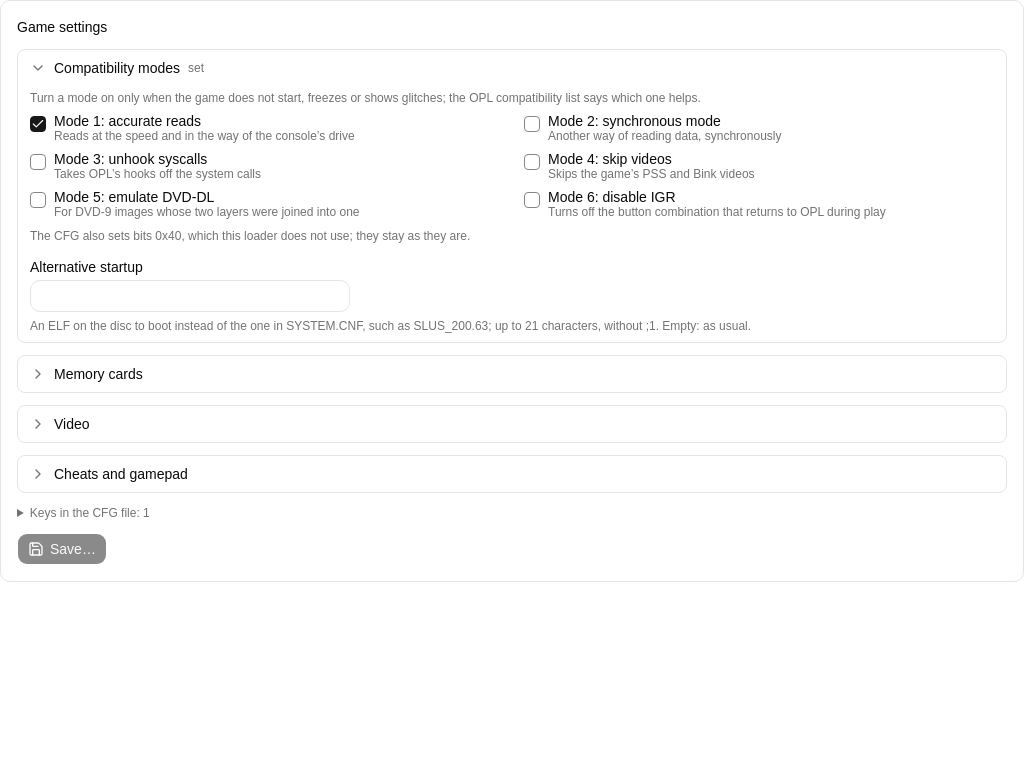
Test: game settings (CFG-2, VMC-1) › plans a mode change and keeps bits the loader does not show
This screenshot has width=1024, height=768.
Expected: the checkbox named "Mode 1" next to "Mode 1: accurate reads" is checked, [30, 116, 46, 132]
Expected: the text with test id "cfg-other-bits" shows "0x40", [30, 229, 470, 243]
Click the checkbox named "Mode 2" next to "Mode 2: synchronous mode".
click(532, 124)  # box [524, 116, 540, 132]
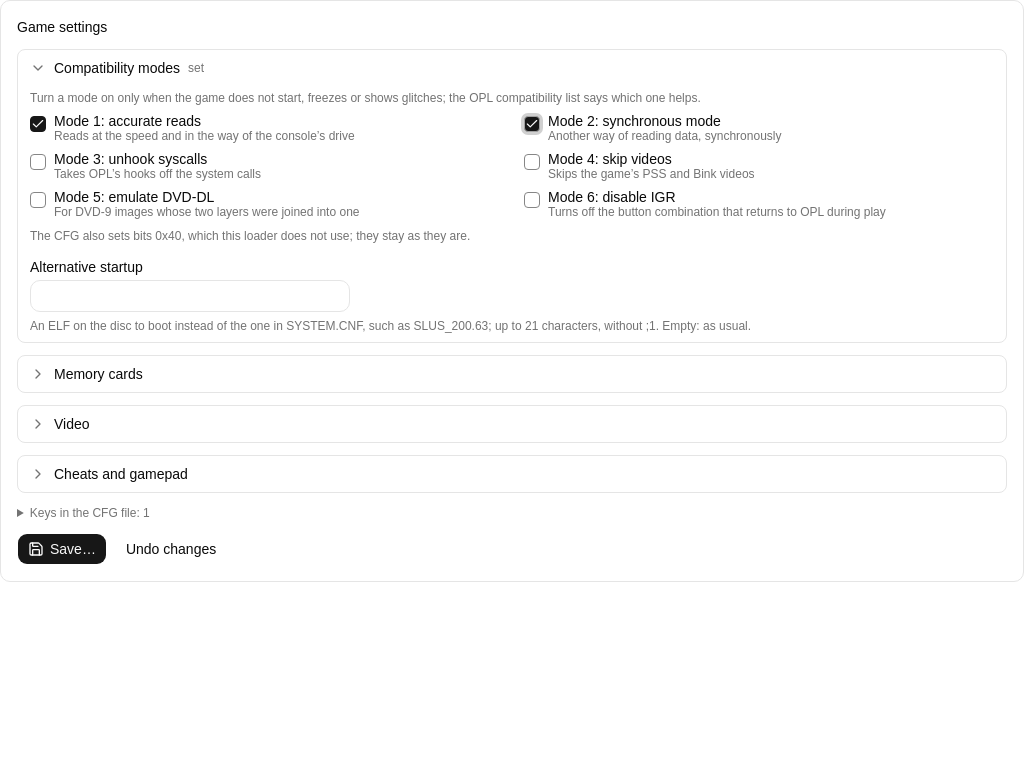
Expected: the button with test id "cfg-save" is enabled
Click the button with test id "cfg-save".
click(62, 549)  # box [17, 533, 107, 565]
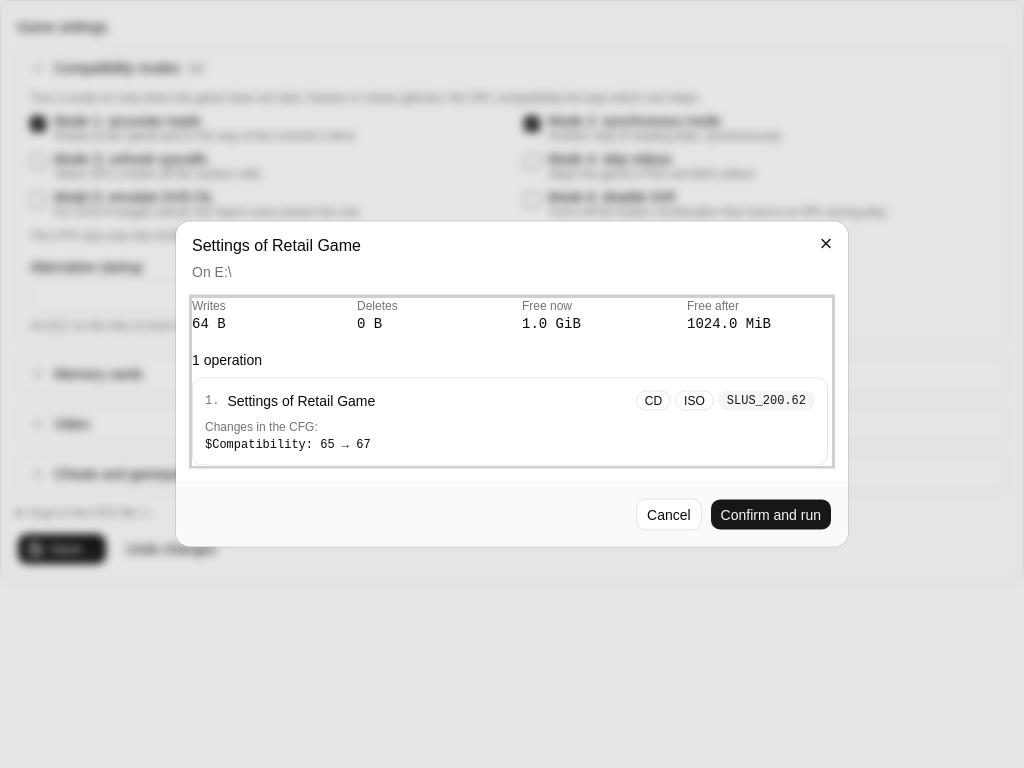
Expected: the element with test id "plan-cfg-changes" shows "$Compatibility: 65 → 67", [205, 420, 371, 452]
